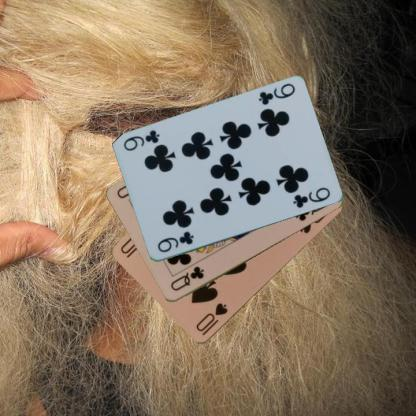10s: (193, 300, 229, 338)
9c: (154, 229, 196, 254), (256, 81, 296, 107)
Qc: (168, 263, 206, 293)
